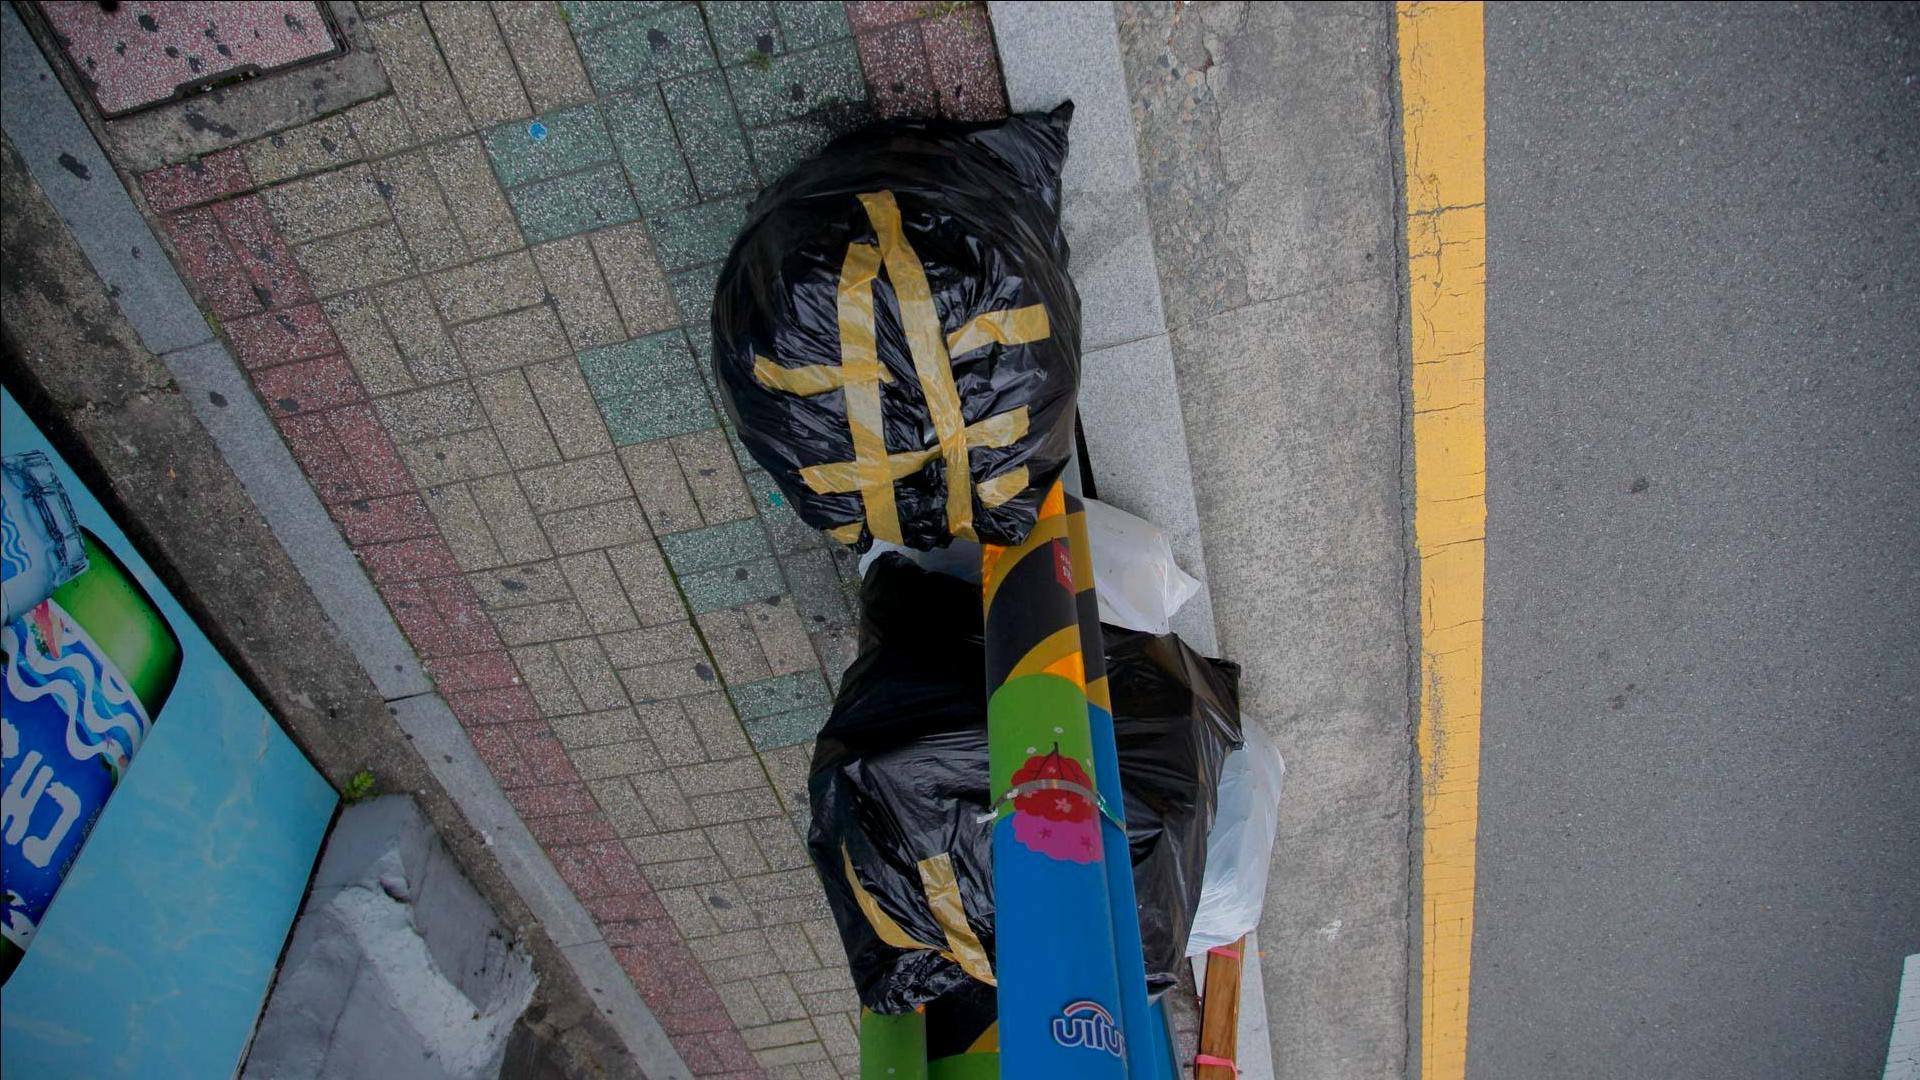black_bag: (811, 545, 1255, 1026), (702, 87, 1109, 560)
